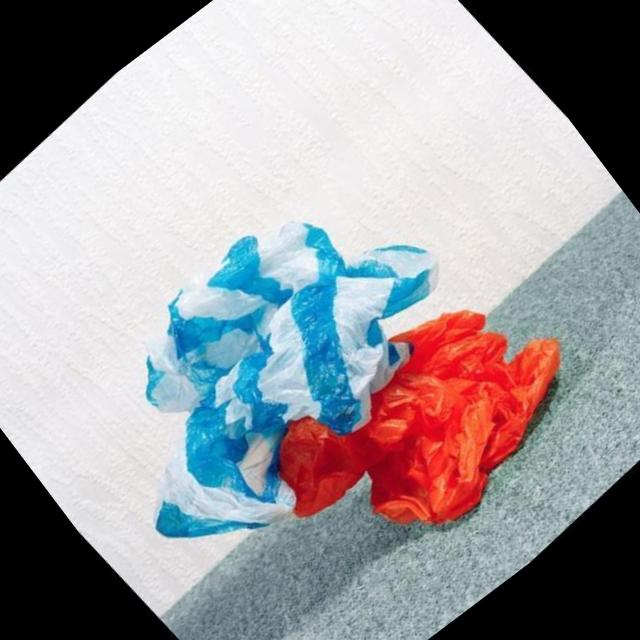KantongPlastik: (46, 119, 610, 640)
